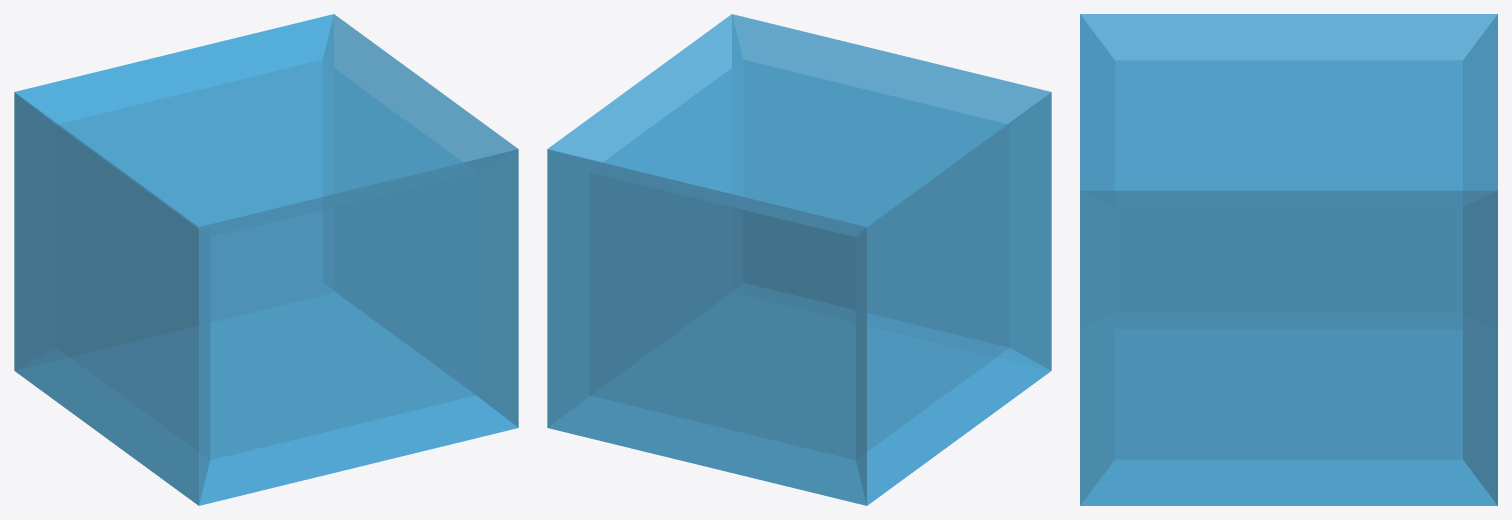
Rendered from SmallCase.fbx.
3 renders of one model, left to right at view 1: azimuth 30°, elevation 25°; view 2: azimuth 150°, elevation 25°; view 3: azimuth 270°, elevation 25°, orthographic. The views are drawn at different scales.
Parts seen in each view (by area): view 1: GlassCase.001, GlassDoor.001; view 2: GlassCase.001, GlassDoor.001; view 3: GlassCase.001, GlassDoor.001.
Boxes of the visible parts, x1=… form: GlassCase.001: x1=14, y1=14, x2=518, y2=505; GlassDoor.001: x1=14, y1=14, x2=333, y2=369; GlassCase.001: x1=547, y1=14, x2=1051, y2=505; GlassDoor.001: x1=547, y1=149, x2=866, y2=505; GlassCase.001: x1=1080, y1=14, x2=1497, y2=505; GlassDoor.001: x1=1463, y1=14, x2=1497, y2=504.
Size of the model in its own units: 60 by 50 by 60.
